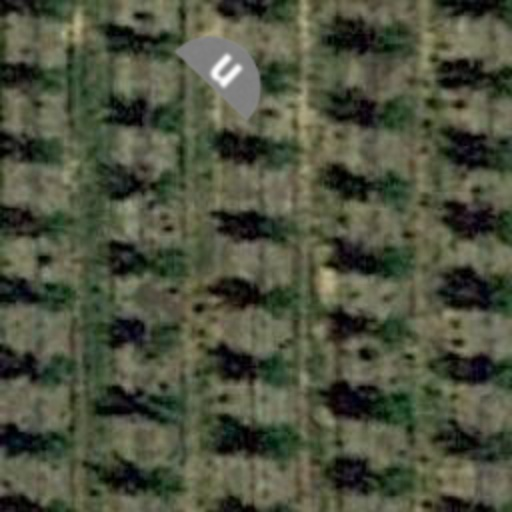semicircle: (156, 0, 300, 142)
